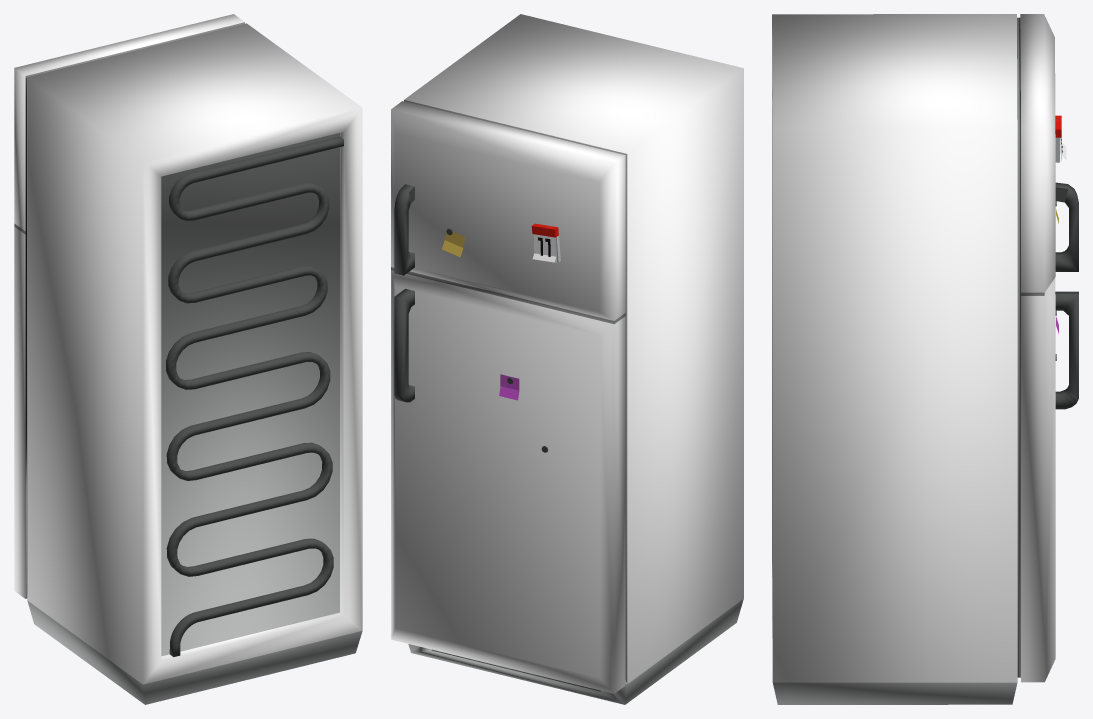
The model's file is fridge.glb.
3 renders of one model, left to right at view 1: azimuth 30°, elevation 25°; view 2: azimuth 150°, elevation 25°; view 3: azimuth 270°, elevation 25°, orthographic. The views are drawn at different scales.
Parts seen in each view (by area): view 1: House Props : Fridge.001; view 2: House Props : Fridge.001; view 3: House Props : Fridge.001.
Part boxes in pixels (<box>): House Props : Fridge.001: <box>14,14,362,704</box>; House Props : Fridge.001: <box>391,14,743,704</box>; House Props : Fridge.001: <box>772,14,1078,704</box>.
Size of the model in its own units: 1.03 by 2.43 by 1.17.
Materials: 1 (1 with a texture image).
